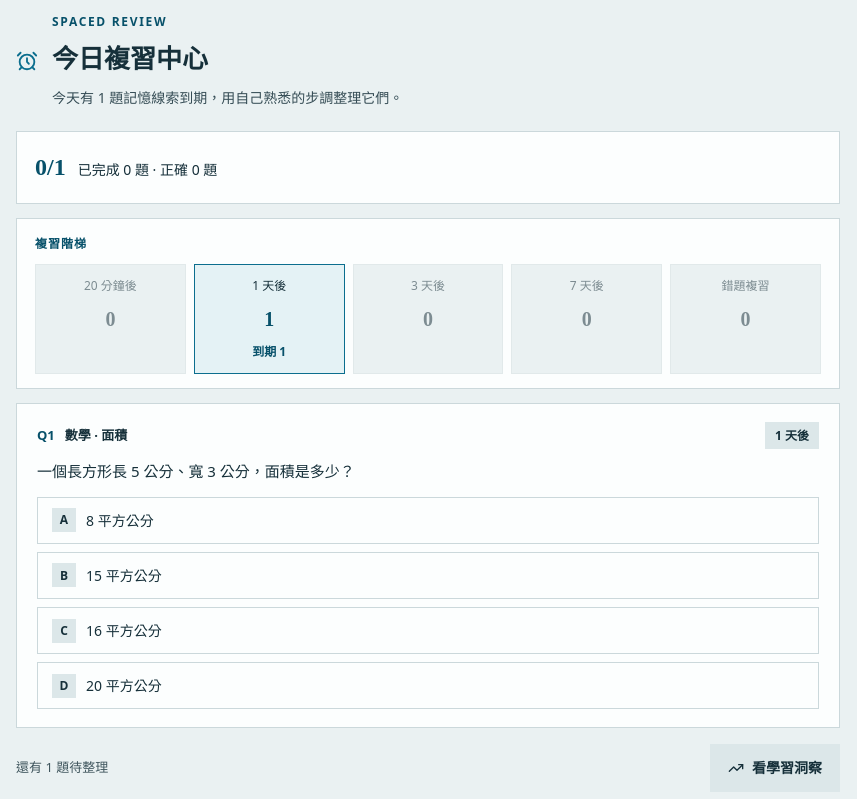
Test: 今日複習中心 › 全部作答後顯示完成面板並晉級間隔節點
This screenshot has width=857, height=799.
Click the button "B 15 平方公分" at (124, 575), box top-left (37, 552), bottom-right (819, 599)
(page scrolled)
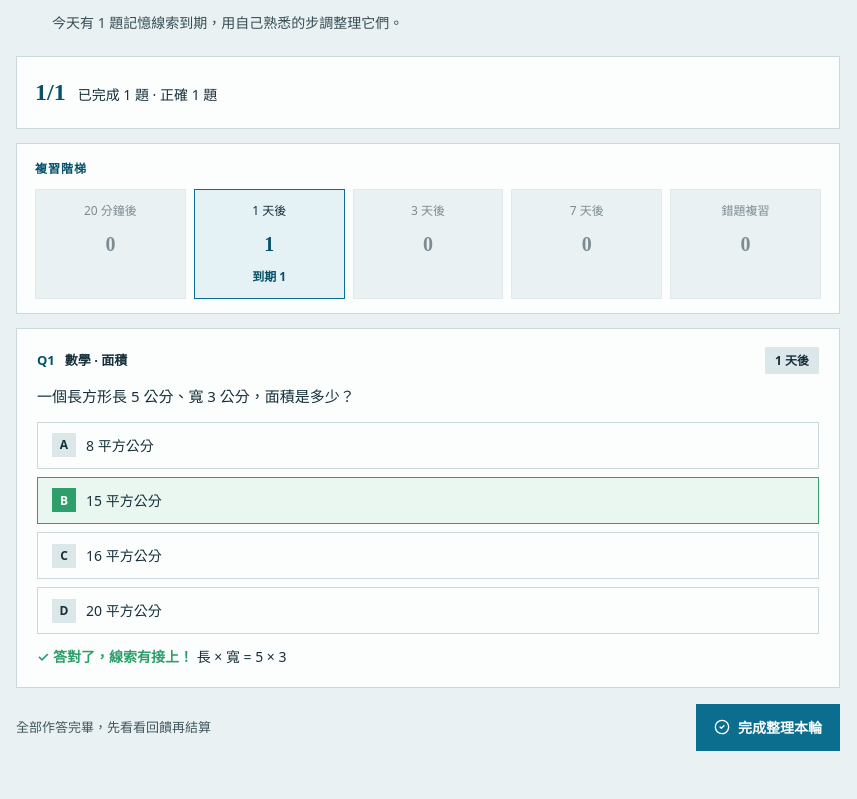
Now the text "✓ 答對了，線索有接上！" is shown, box top-left (37, 647), bottom-right (193, 666)
Click the button "完成整理本輪" at (768, 727), box top-left (696, 704), bottom-right (840, 751)
(page scrolled)
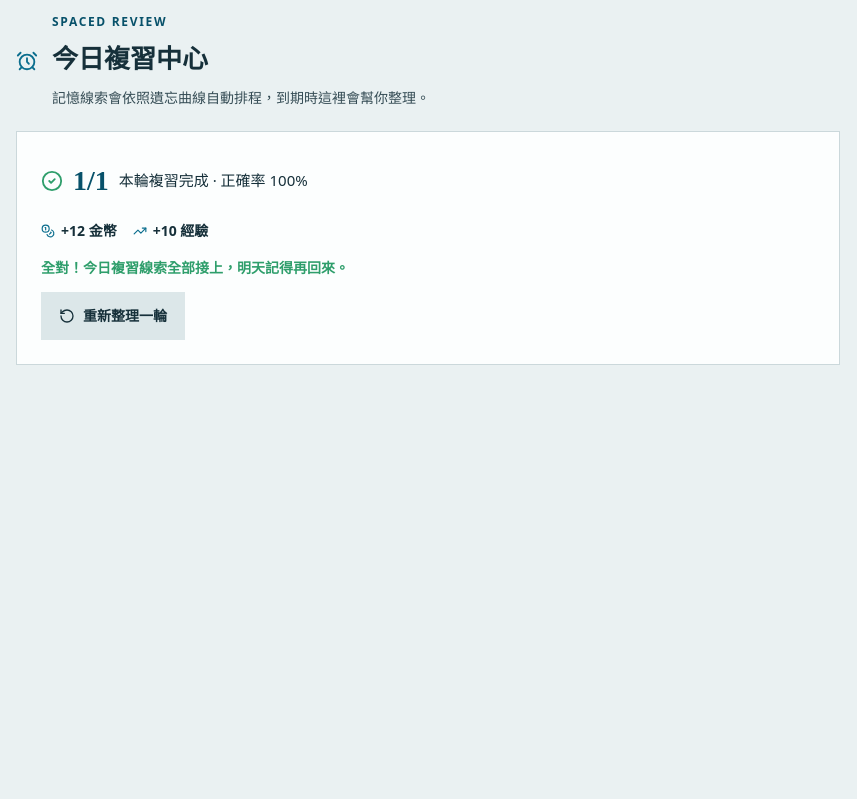
Now the text "本輪複習完成 · 正確率 100%" is shown, box top-left (119, 167), bottom-right (308, 194)
Now the text "+12 金幣" is shown, box top-left (41, 218), bottom-right (117, 243)
Now the text "+10 經驗" is shown, box top-left (133, 218), bottom-right (208, 243)
